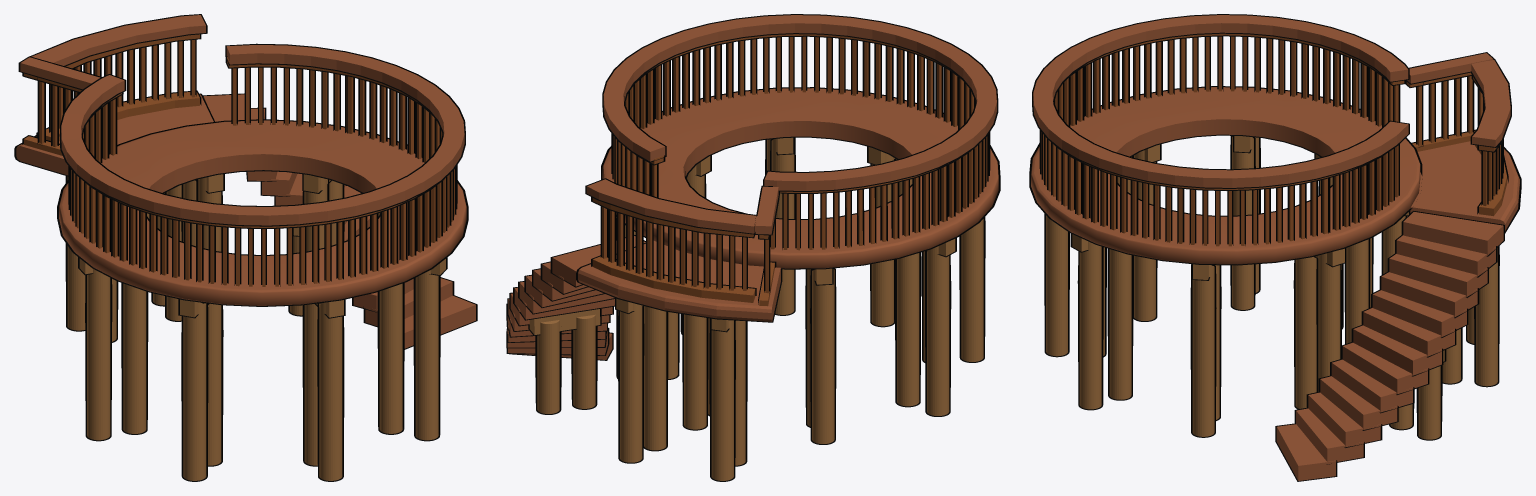
The model's file is building02.glb.
3 views of the same model, side by side, from view 1: azimuth 30°, elevation 25°; view 2: azimuth 150°, elevation 25°; view 3: azimuth 270°, elevation 25° (orthographic). The views are drawn at different scales.
Parts seen in each view (by area): view 1: Cylinder.011, Cylinder.004; view 2: Cylinder.011, Cylinder.004; view 3: Cylinder.011, Cylinder.004.
Boxes of the visible parts, x1,y1,x2,y2 form: Cylinder.011: (14, 14, 477, 481); Cylinder.004: (59, 43, 465, 226); Cylinder.011: (506, 34, 1000, 481); Cylinder.004: (602, 14, 998, 191); Cylinder.011: (1029, 33, 1521, 481); Cylinder.004: (1032, 14, 1409, 188).
Bounding box in the file's own units: 8.15 × 5.07 × 8.44.
